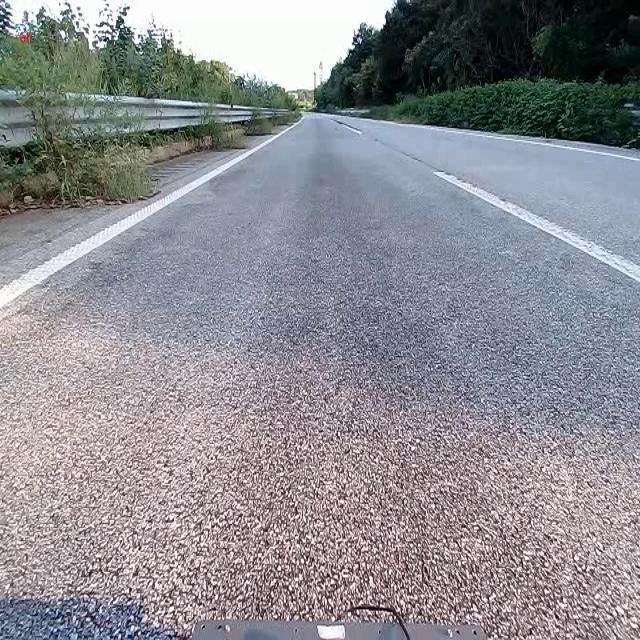Lane: (0, 107, 307, 323), (0, 120, 301, 319), (327, 108, 640, 290), (434, 171, 639, 282), (431, 127, 639, 161), (334, 120, 361, 133)
